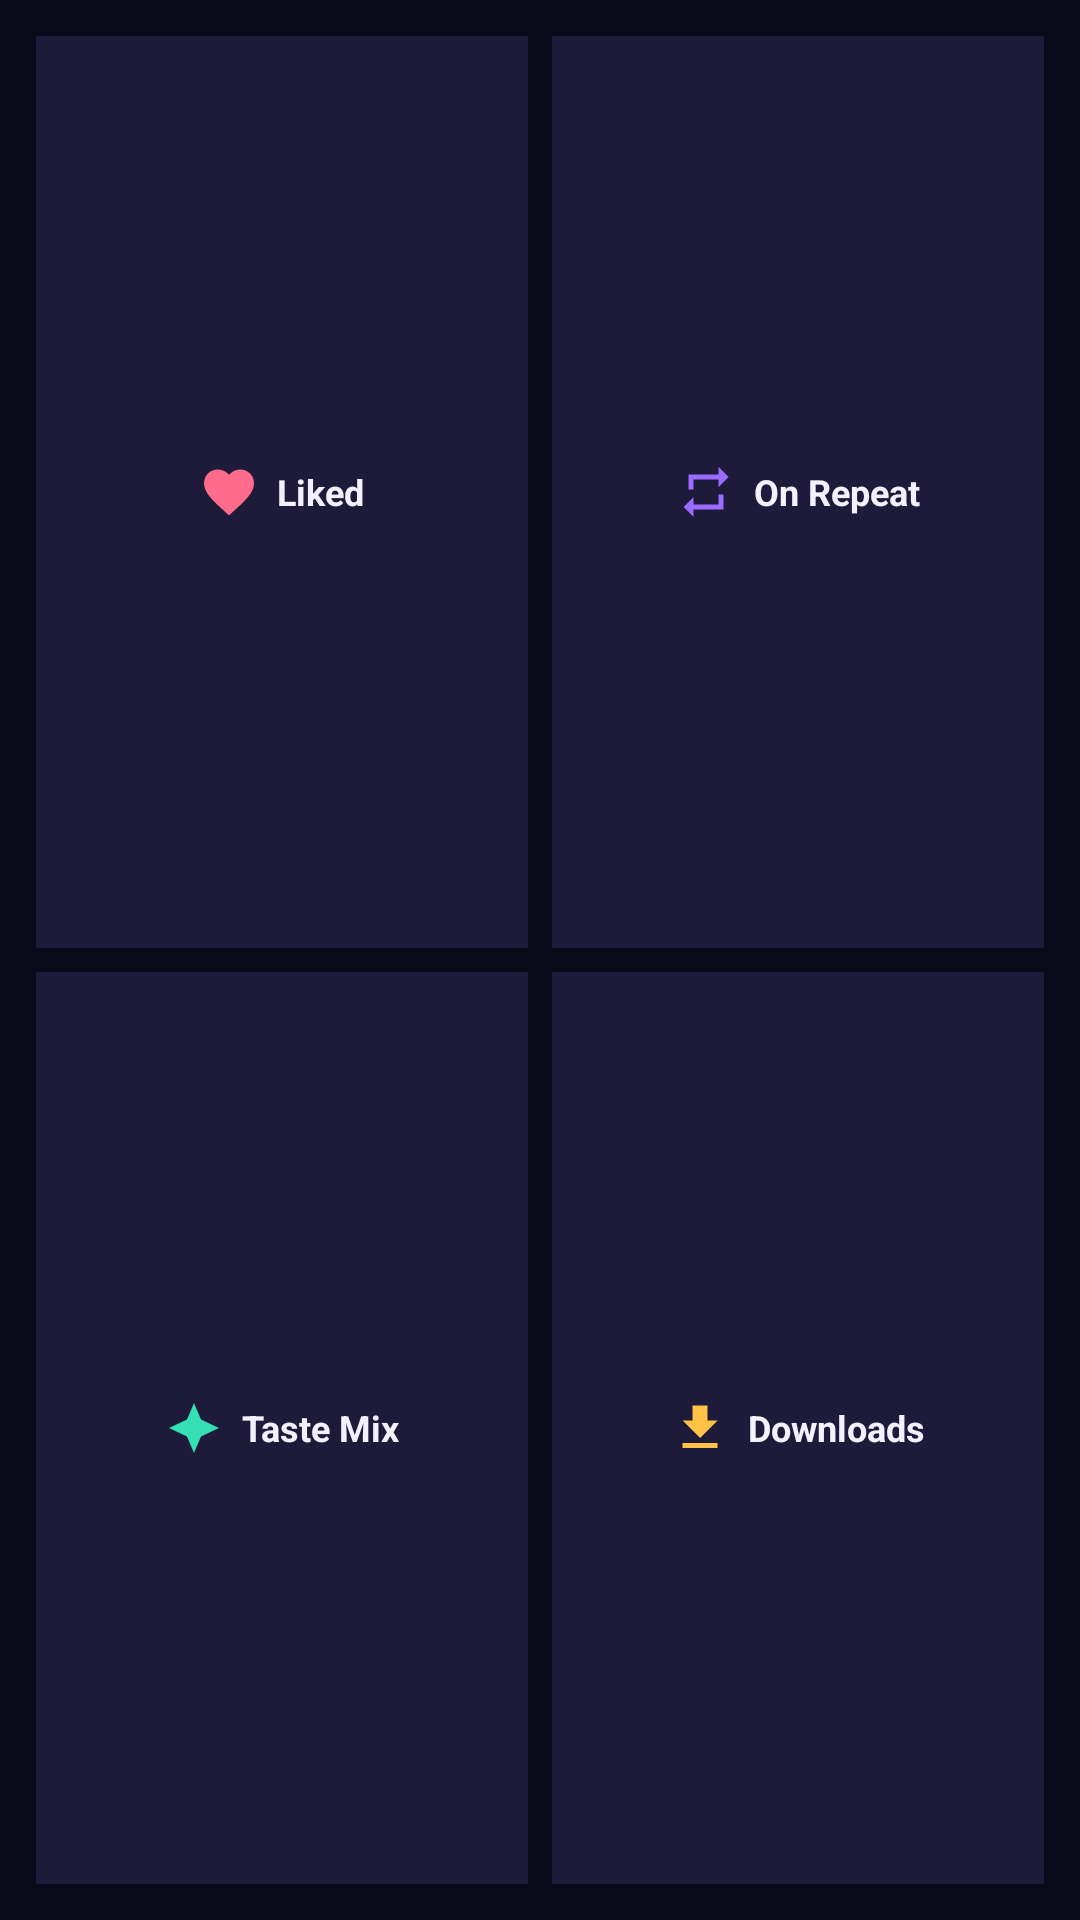

Screen size 1080 x 1920. Icon name, then its box in pixels as (x1, y1, x2, y2):
heart: (204, 469, 254, 515)
sparkle: (169, 1403, 219, 1453)
